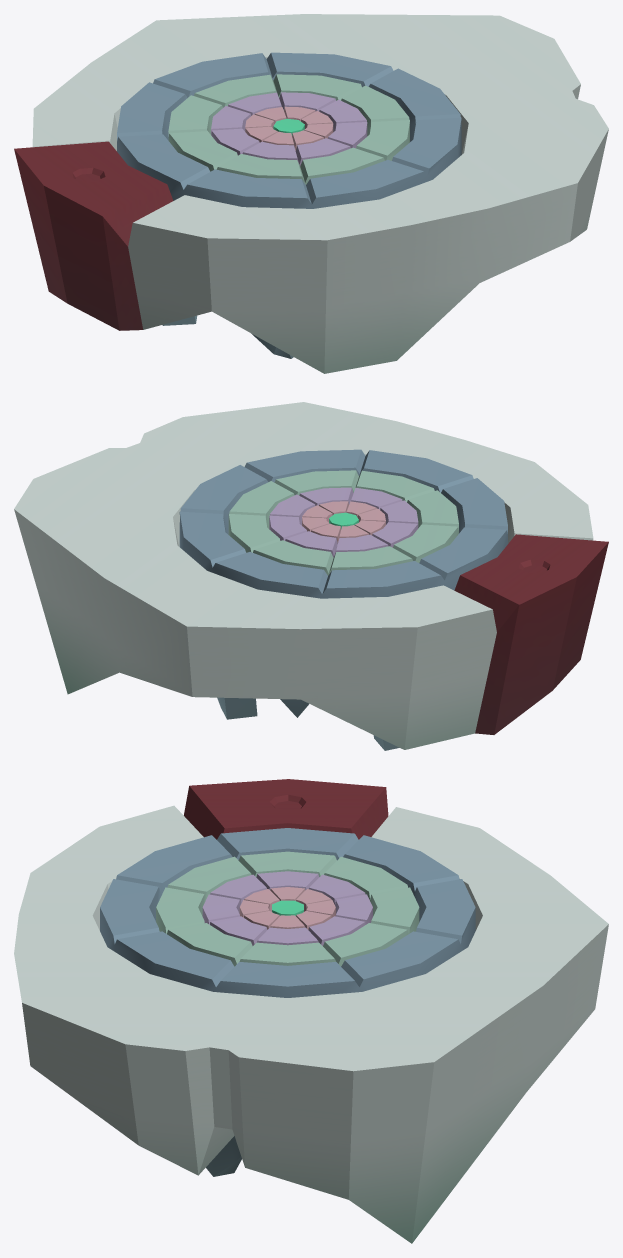
The model's file is keyA.FBX.
3 renders of one model, top to bottom at view 1: azimuth 30°, elevation 25°; view 2: azimuth 150°, elevation 25°; view 3: azimuth 270°, elevation 25°, orthographic. The views are drawn at different scales.
Parts seen in each view (by area): view 1: keyA, KeyA001, KeyA002, KeyA003, KeyA004; view 2: keyA, KeyA001, KeyA002, KeyA003, KeyA004; view 3: keyA, KeyA001, KeyA002, KeyA003, KeyA004.
Boxes of the visible parts, x1,y1,x2,y2 form: keyA: (14,14,608,373); KeyA001: (117,52,461,358); KeyA002: (168,74,409,184); KeyA003: (211,92,367,165); KeyA004: (245,106,333,150); keyA: (14,402,608,749); KeyA001: (179,449,507,750); KeyA002: (228,470,458,575); KeyA003: (269,487,418,557); KeyA004: (302,501,385,543); keyA: (14,779,608,1243); KeyA001: (100,828,475,1176); KeyA002: (156,851,419,966); KeyA003: (202,871,372,945); KeyA004: (239,887,335,929).
Size of the model in its own units: 19.14 by 7.33 by 16.92.
